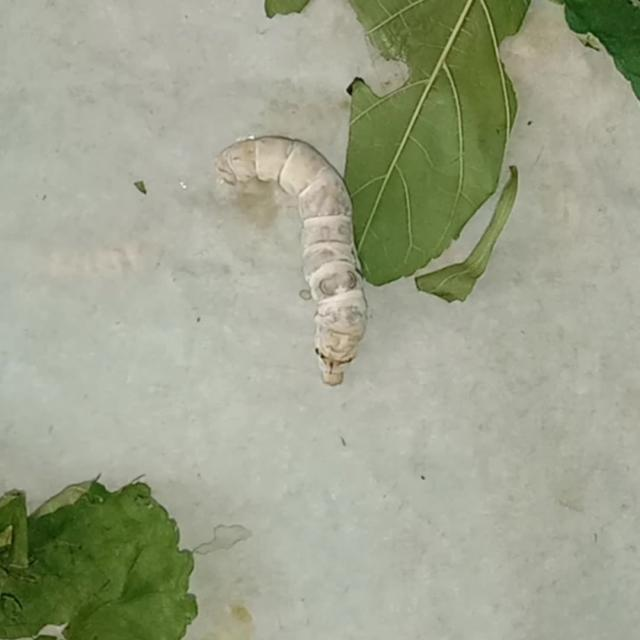Grasserie: (210, 120, 388, 391)
